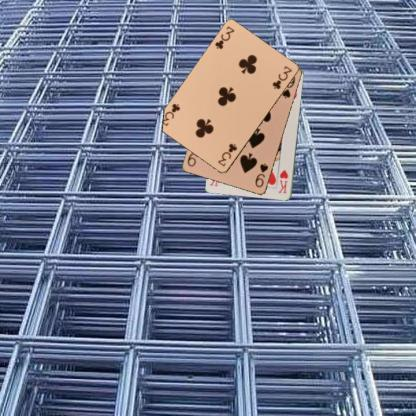3c: (212, 24, 235, 51), (216, 141, 238, 168)
9s: (252, 161, 270, 189)
Kh: (275, 167, 290, 195)
